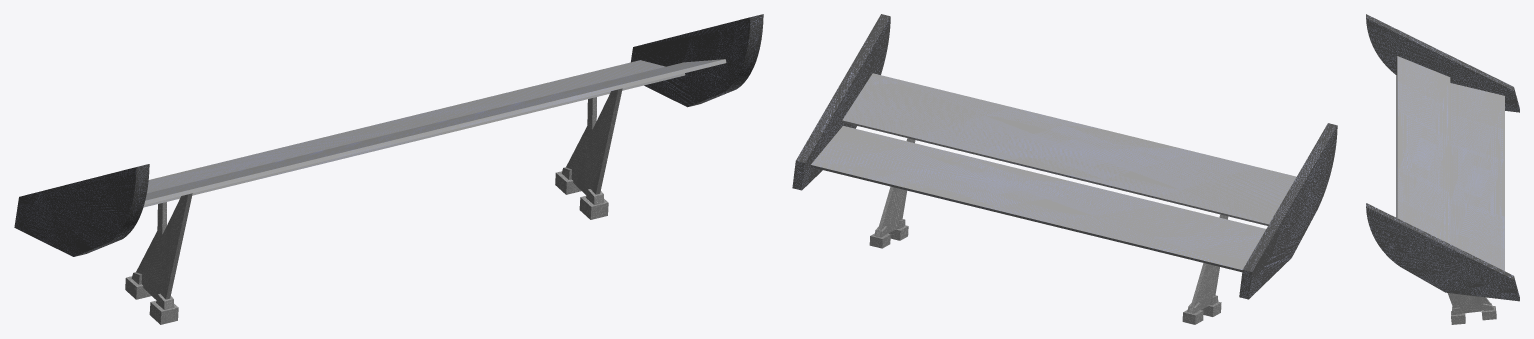
Rendered from spoiler_2.dae.
The picture shows the model from 3 angles, left to right: view 1: azimuth 30°, elevation 25°; view 2: azimuth 150°, elevation 25°; view 3: azimuth 270°, elevation 25°; orthographic projection. The views are drawn at different scales.
Parts seen in each view (by area): view 1: group_3 (×2), group_4, group_2, group_7, group_6; view 2: group_3 (×2), group_4, group_2, group_6, group_7; view 3: group_3 (×2), group_2, group_4, group_7 (×3).
Boxes of the visible parts, bbox=[...] form: group_3 (×2): bbox=[143, 59, 726, 207]; group_4: bbox=[14, 164, 149, 256]; group_2: bbox=[631, 14, 763, 107]; group_7: bbox=[566, 88, 622, 195]; group_6: bbox=[136, 193, 192, 299]; group_3 (×2): bbox=[810, 73, 1296, 272]; group_4: bbox=[1239, 123, 1337, 299]; group_2: bbox=[792, 14, 890, 190]; group_6: bbox=[1189, 214, 1228, 313]; group_7: bbox=[876, 138, 915, 237]; group_3 (×2): bbox=[1396, 56, 1504, 270]; group_2: bbox=[1366, 203, 1519, 301]; group_4: bbox=[1366, 14, 1519, 112]; group_7 (×3): bbox=[1447, 293, 1496, 324].
Bounding box in the file's own units: 30.02 × 10.12 × 10.53.
